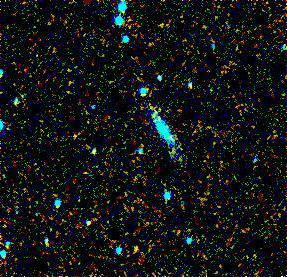star: (122, 231, 152, 261)
